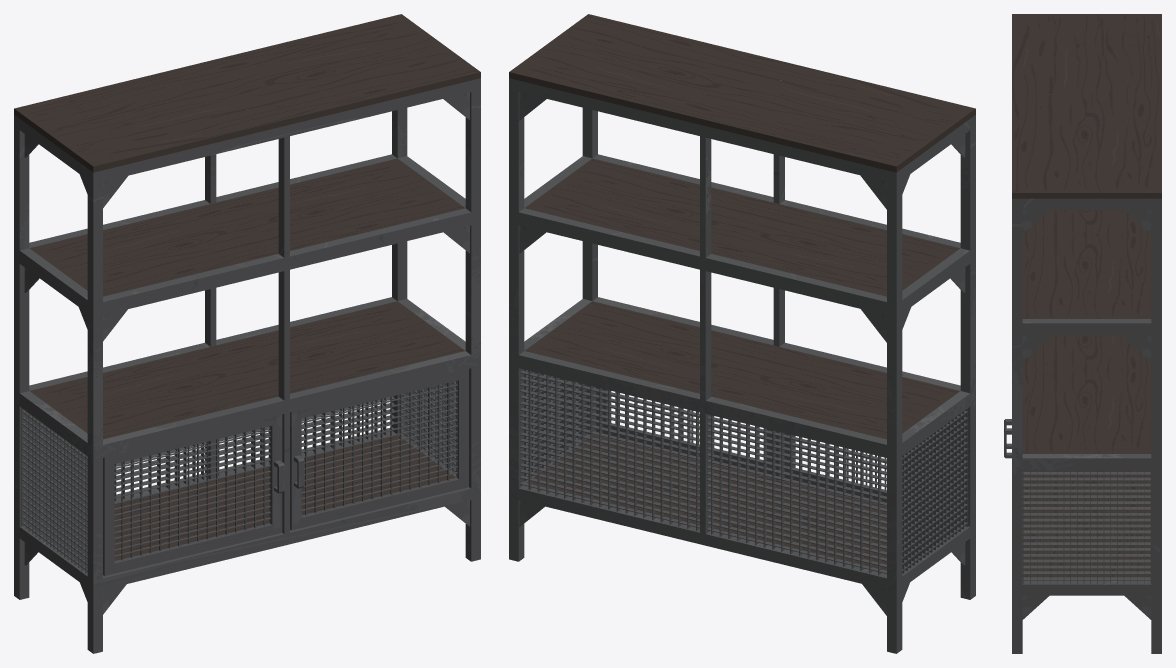
The model's file is bookShelf.fbx.
3 views of the same model, side by side, from view 1: azimuth 30°, elevation 25°; view 2: azimuth 150°, elevation 25°; view 3: azimuth 270°, elevation 25° (orthographic). The views are drawn at different scales.
Visible parts, largest first — view 1: shelf, shelf_Door_L, self_Door_R; view 2: shelf, self_Door_R, shelf_Door_L; view 3: shelf.
Part boxes in pixels (<box>): shelf: <box>14,14,480,653</box>; shelf_Door_L: <box>103,414,284,576</box>; self_Door_R: <box>290,369,468,530</box>; shelf: <box>509,14,975,653</box>; self_Door_R: <box>596,387,772,474</box>; shelf_Door_L: <box>784,433,886,502</box>; shelf: <box>1012,14,1161,653</box>.
Size of the model in its own units: 5.64 by 6.78 by 2.11.
Materials: 2 (2 with a texture image).
